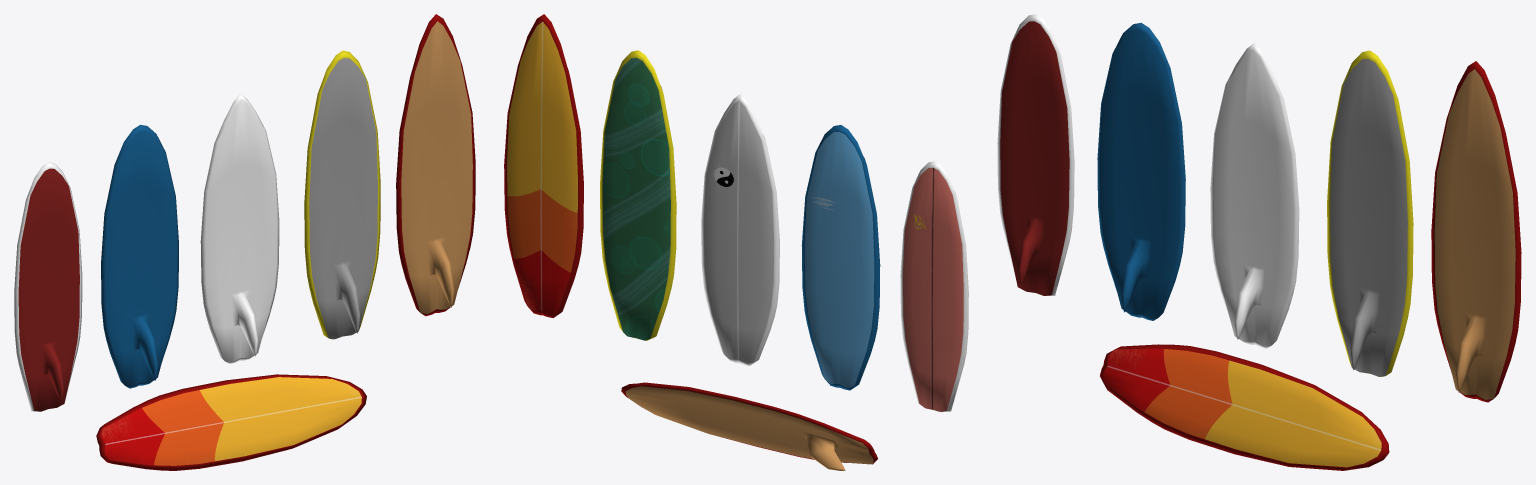
The model's file is object_surfboard.glb.
3 renders of one model, left to right at view 1: azimuth 30°, elevation 25°; view 2: azimuth 150°, elevation 25°; view 3: azimuth 330°, elevation 25°, orthographic. The views are drawn at different scales.
Visible parts, largest first — view 1: Cube, Cube.006, Cube.002, Cube.003, Cube.004, Cube.005; view 2: Cube, Cube.002, Cube.003, Cube.004, Cube.005, Cube.006; view 3: Cube, Cube.002, Cube.006, Cube.003, Cube.004, Cube.005.
Boxes of the visible parts, <box> form: Cube: <box>396,14,475,316</box>; Cube.006: <box>96,374,366,470</box>; Cube.002: <box>304,50,380,339</box>; Cube.003: <box>200,93,279,363</box>; Cube.004: <box>101,124,178,388</box>; Cube.005: <box>14,162,82,411</box>; Cube: <box>504,14,583,317</box>; Cube.002: <box>600,50,676,340</box>; Cube.003: <box>701,93,779,365</box>; Cube.004: <box>801,125,880,390</box>; Cube.005: <box>900,161,968,412</box>; Cube.006: <box>621,382,877,470</box>; Cube: <box>1431,61,1521,402</box>; Cube.002: <box>1327,50,1413,376</box>; Cube.006: <box>1100,344,1389,470</box>; Cube.003: <box>1210,42,1299,348</box>; Cube.004: <box>1097,22,1185,320</box>; Cube.005: <box>997,14,1074,295</box>.
Size of the model in its own units: 3.3 by 2.66 by 0.408.
5 materials, 5 textured.
